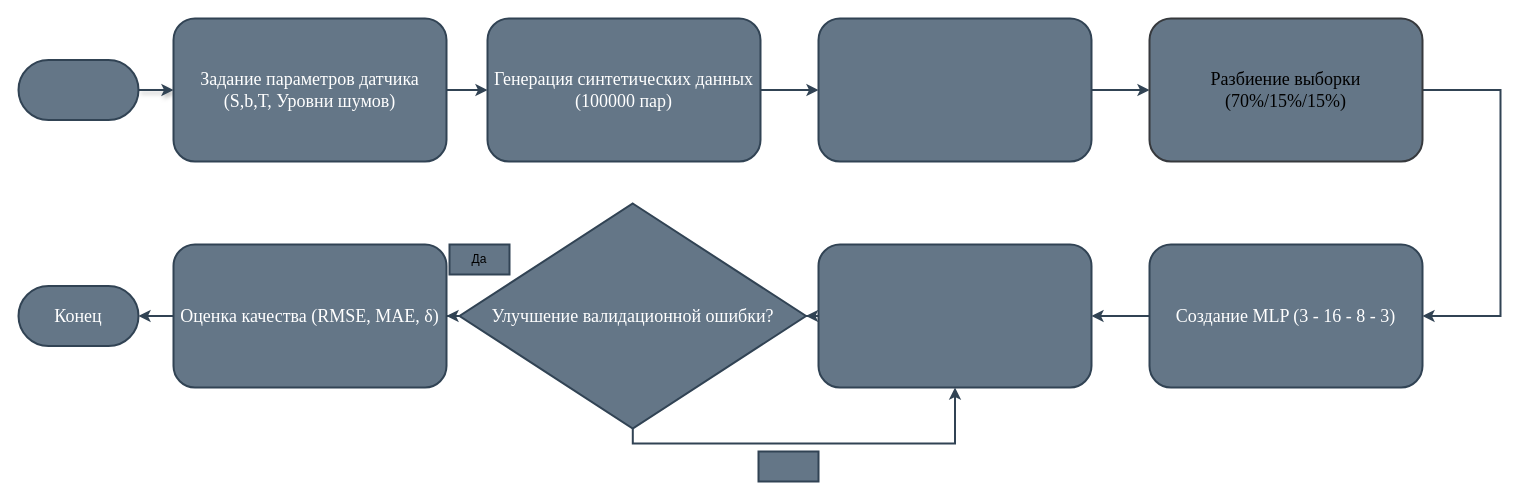
The diagram is 1526 pixels wide and 499 high, and some of its shapes have lost their labels. Each missing label, with the centre of its shape:
Начало: the point at 78,89
Нет: the point at 788,466
Нормализация данных (Min-Max [-1,1]): the point at 954,89
Обучение (Adam, L2-регуляризация: the point at 954,315
